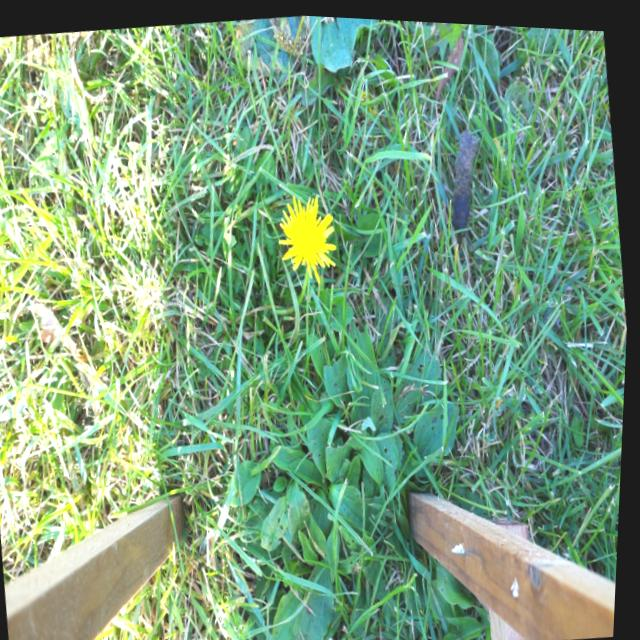base: (270, 292, 289, 324)
